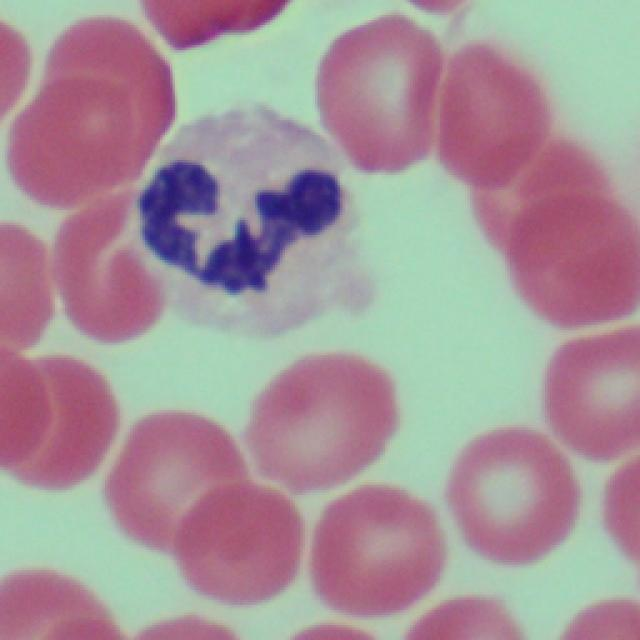RBC: (243, 348, 399, 486), (315, 16, 441, 170), (447, 422, 582, 565), (105, 414, 242, 554), (501, 192, 638, 329), (43, 18, 170, 157), (312, 486, 440, 619), (1, 353, 121, 492), (8, 77, 131, 207), (54, 203, 161, 348), (434, 44, 546, 180), (181, 489, 306, 605), (478, 138, 603, 248), (544, 332, 640, 461), (0, 567, 118, 640), (141, 0, 293, 47), (0, 223, 54, 353), (0, 350, 52, 469), (408, 595, 534, 635), (600, 457, 640, 567), (552, 594, 640, 639), (136, 614, 239, 640), (294, 620, 373, 638)
WBC: (136, 105, 376, 337)
